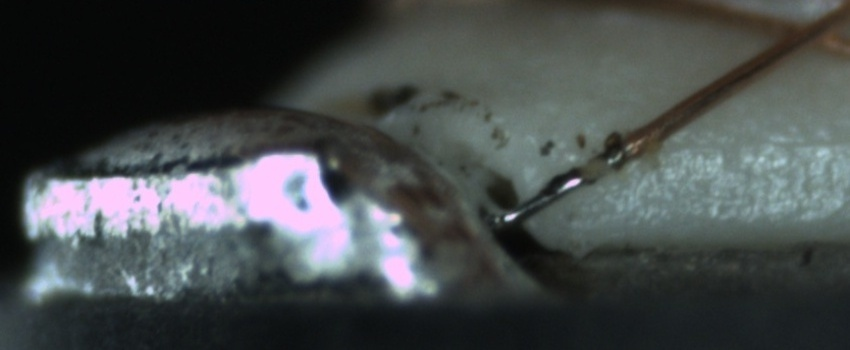CL: (768, 5, 844, 56)
DL: (678, 111, 850, 175)
TB: (542, 167, 588, 201)
TS: (501, 146, 637, 234)
TTCW: (492, 114, 669, 228)
